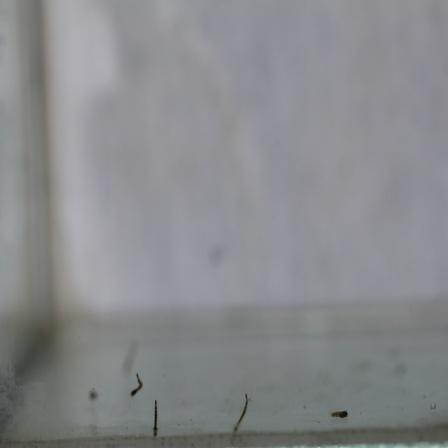Jentik-Nyamuk: (229, 392, 252, 436), (147, 396, 164, 440), (127, 370, 146, 399)
